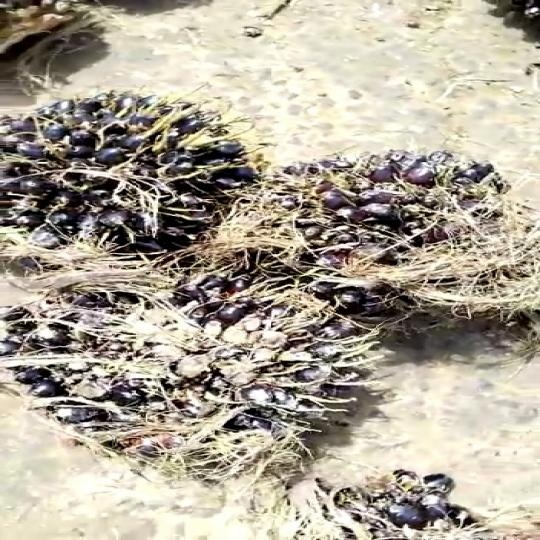mentah: (5, 285, 381, 490), (268, 146, 540, 303), (0, 100, 247, 226)
